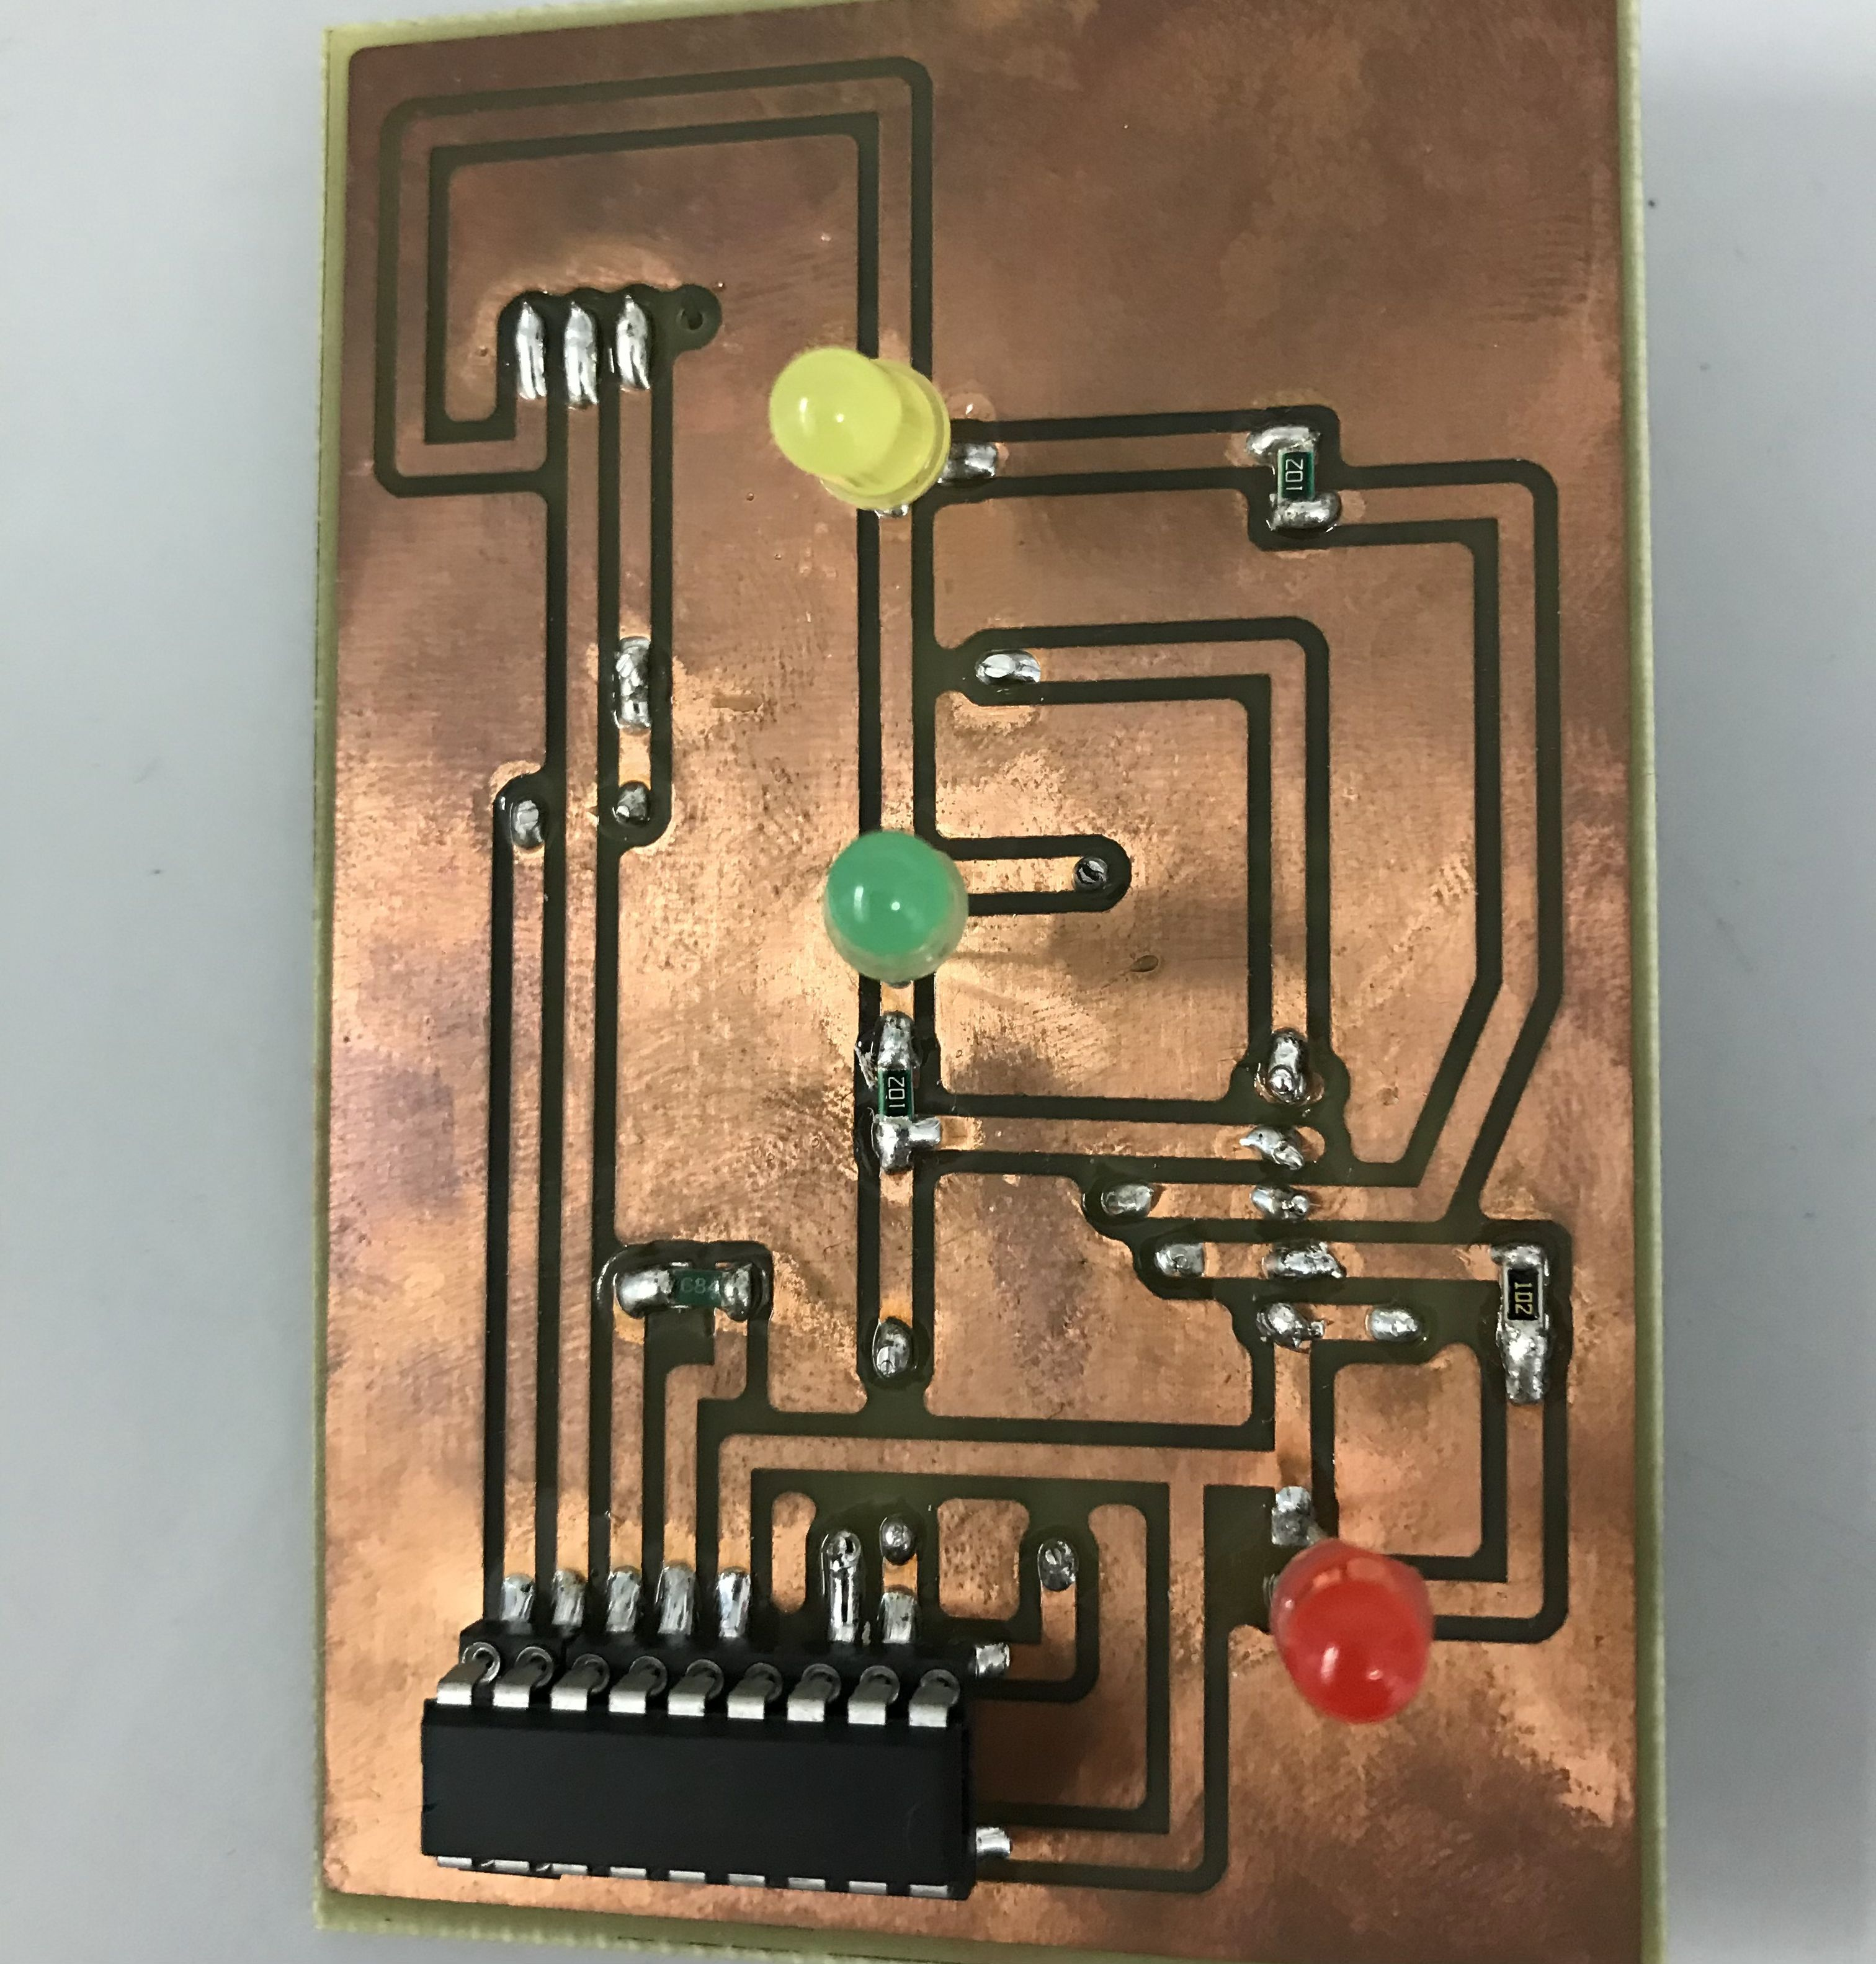LED: (1259, 1540, 1443, 1731), (761, 342, 963, 510), (814, 829, 971, 991)
